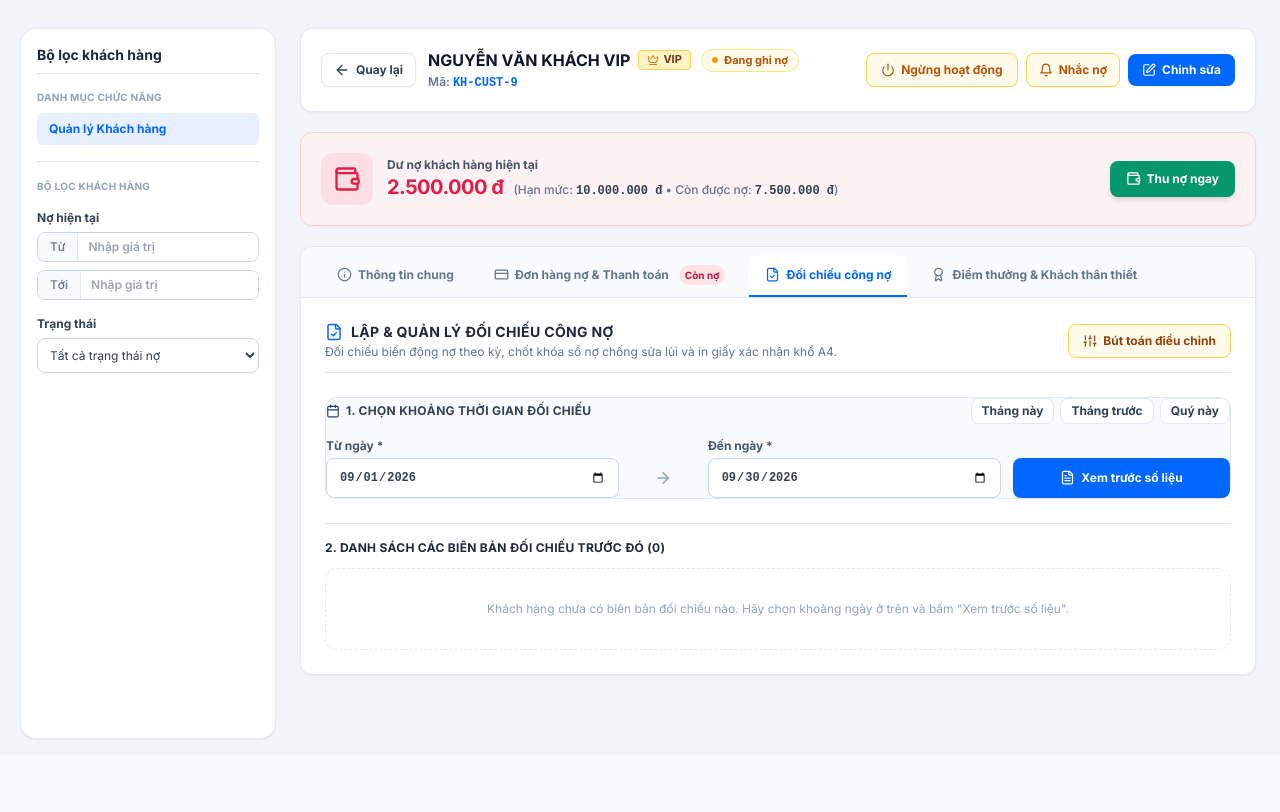
Test case: CustomerDetailPage: Giao diện chi tiết khách hàng chuẩn vibe Nhà cung cấp › 4. Thao tác xem trước số liệu đối chiếu inline trực tiếp trong trang
Click the button "Xem trước số liệu": (1122, 478) [1013,458,1230,498]
(page scrolled)
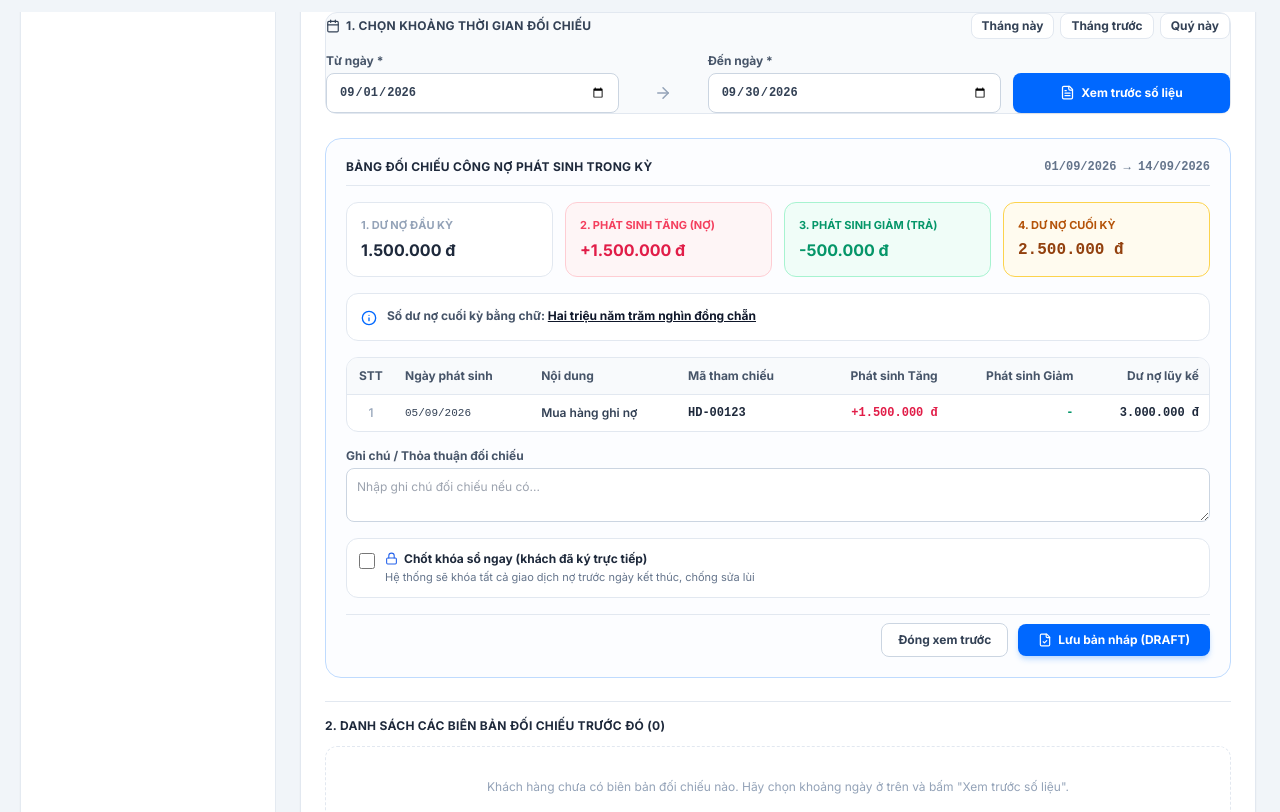
Result: the text "1. Dư nợ đầu kỳ" is shown at [361,218,453,232]
Result: the text "2. Phát sinh tăng (Nợ)" is shown at [580,218,715,232]
Result: the text "3. Phát sinh giảm (Trả)" is shown at [799,218,937,232]
